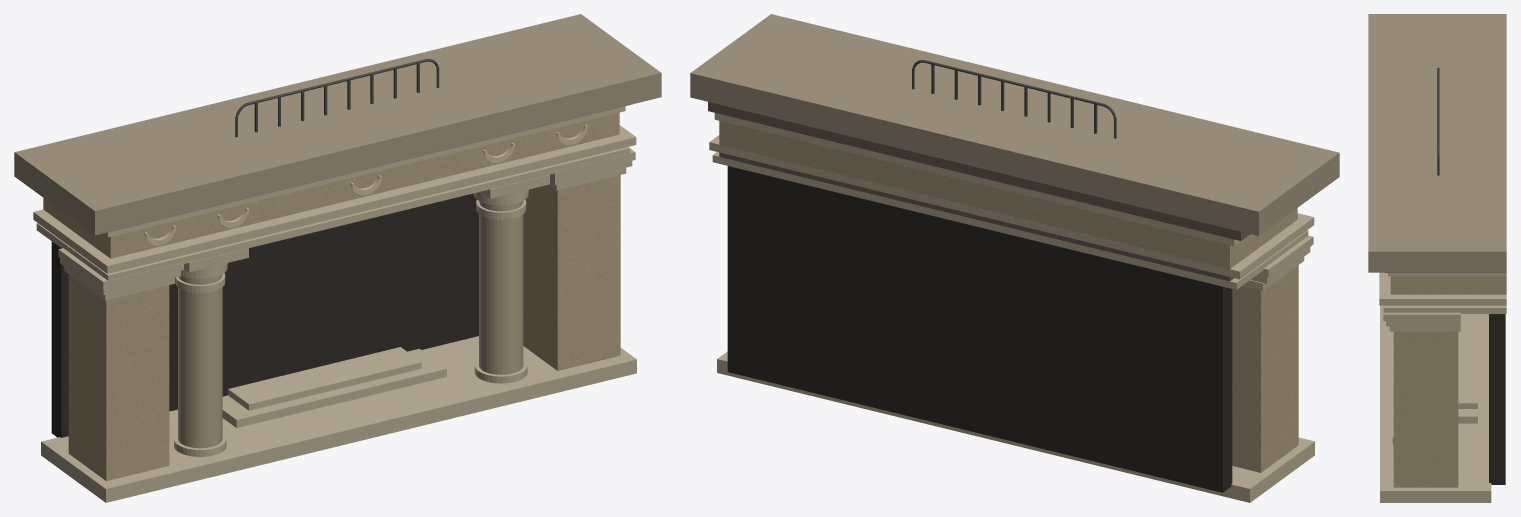
The model's file is huangpu-national-industrial-bank-rooftop-columned-pavilion-raw.glb.
3 views of the same model, side by side, from view 1: azimuth 30°, elevation 25°; view 2: azimuth 150°, elevation 25°; view 3: azimuth 270°, elevation 25° (orthographic). The views are drawn at different scales.
Parts seen in each view (by area): view 1: 中实大楼屋顶方亭双柱与弧饰额枋; view 2: 中实大楼屋顶方亭双柱与弧饰额枋; view 3: 中实大楼屋顶方亭双柱与弧饰额枋.
Boxes of the visible parts, left/top/right/bottom form: 中实大楼屋顶方亭双柱与弧饰额枋: left=14, top=14, right=661, bottom=502; 中实大楼屋顶方亭双柱与弧饰额枋: left=690, top=14, right=1339, bottom=502; 中实大楼屋顶方亭双柱与弧饰额枋: left=1368, top=14, right=1506, bottom=502.
Size of the model in its own units: 5.12 by 2.87 by 1.26.
Materials: 8 (1 with a texture image).
